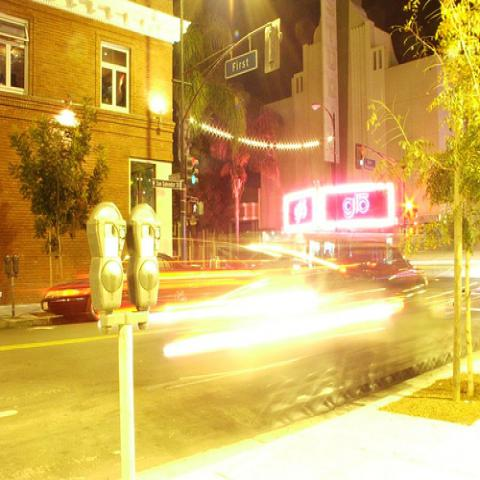car: (306, 236, 428, 316), (40, 261, 135, 323)
